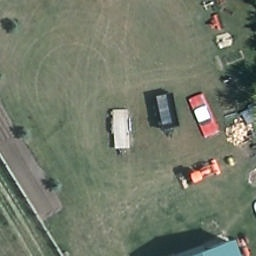car: (186, 91, 222, 137)
other: (174, 159, 220, 194)
